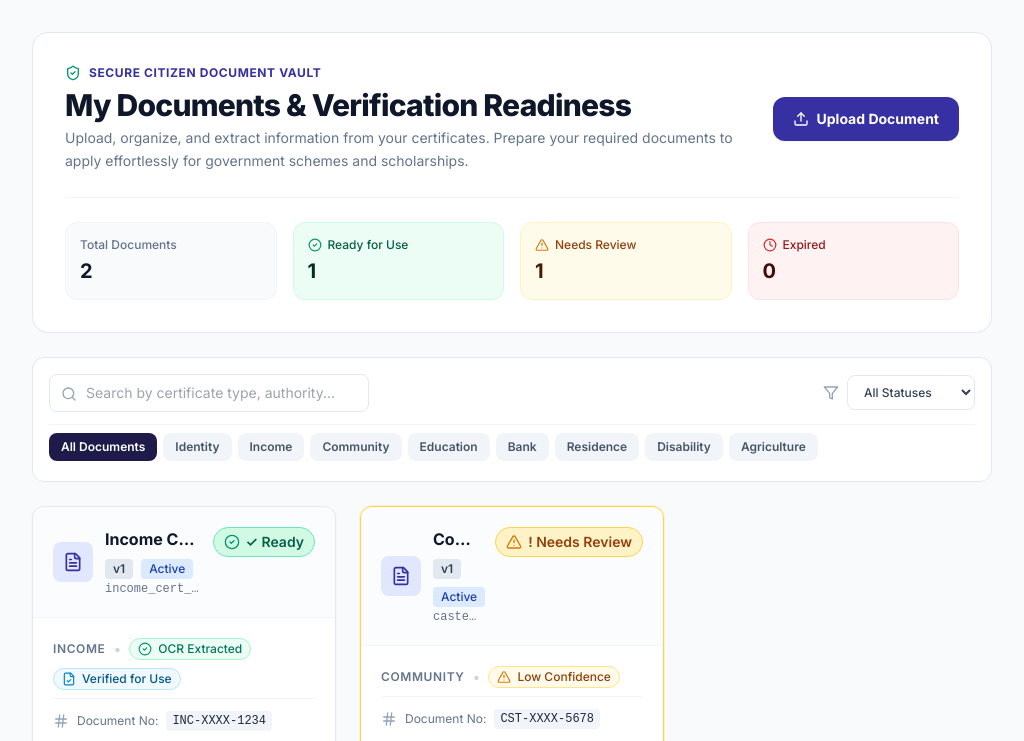
DocumentsPage Component (Module 6) › filters documents when selecting a category tab
Expected: the heading "Income Certificate" is shown, x1=105 y1=526 x2=201 y2=550
// Click "Community" tab
Click the button "Community" at coordinates (356, 446), box x1=310 y1=432 x2=402 y2=460
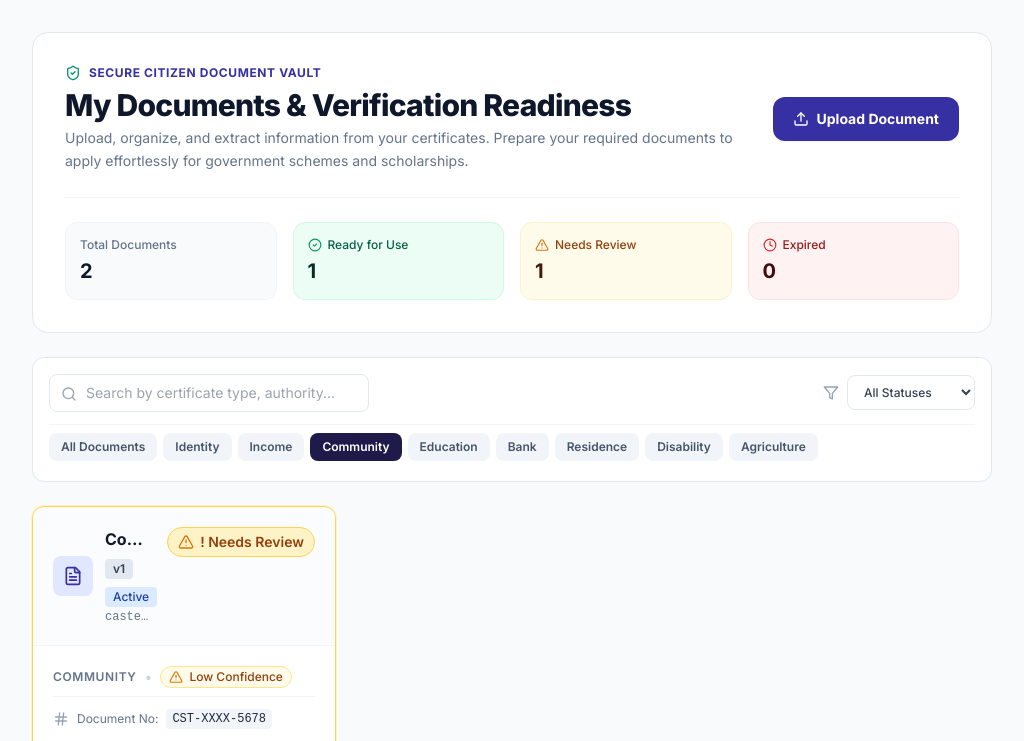
Expected: the heading "Community / Caste Certificate" is shown, x1=105 y1=526 x2=155 y2=550
Expected: the heading "Income Certificate" is gone
